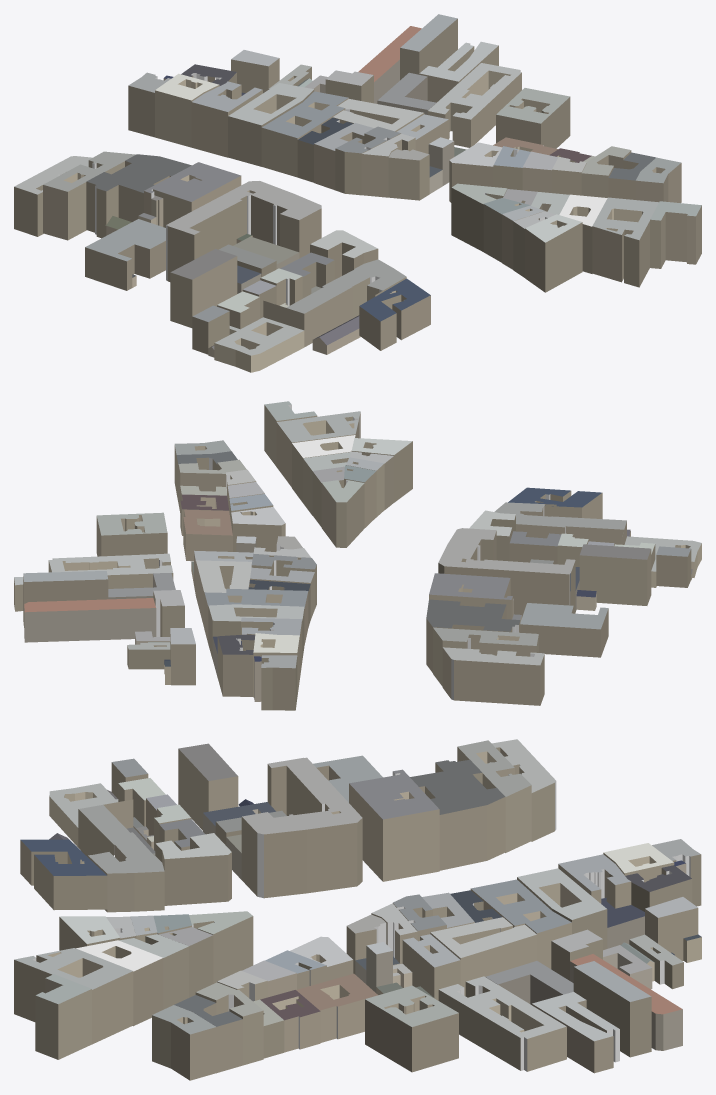
3 views of the same model, one above another, from view 1: azimuth 30°, elevation 25°; view 2: azimuth 150°, elevation 25°; view 3: azimuth 270°, elevation 25° (orthographic). The views are drawn at different scales.
Parts seen in each view (by area): view 1: tuile; view 2: tuile; view 3: tuile.
Boxes of the visible parts, x1=… form: tuile: x1=14, y1=14, x2=701, y2=372; tuile: x1=14, y1=401, x2=701, y2=710; tuile: x1=14, y1=739, x2=701, y2=1080.
Bounding box in the file's own units: 274 × 29.62 × 270.
